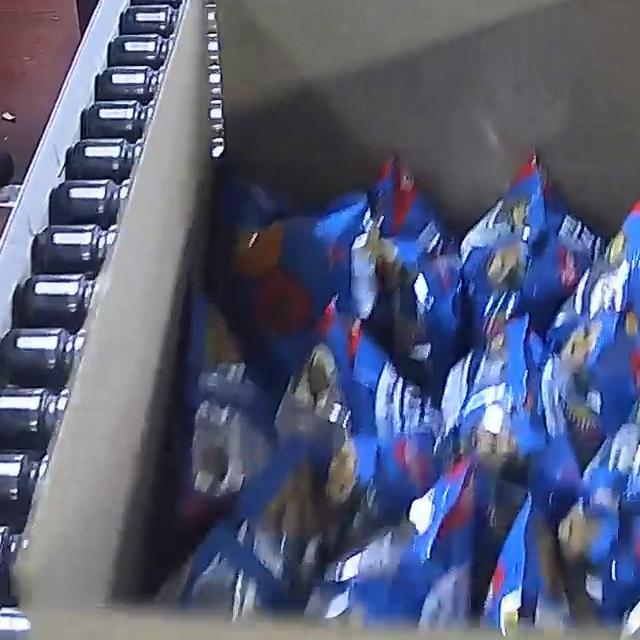paprika: (175, 145, 640, 640)
